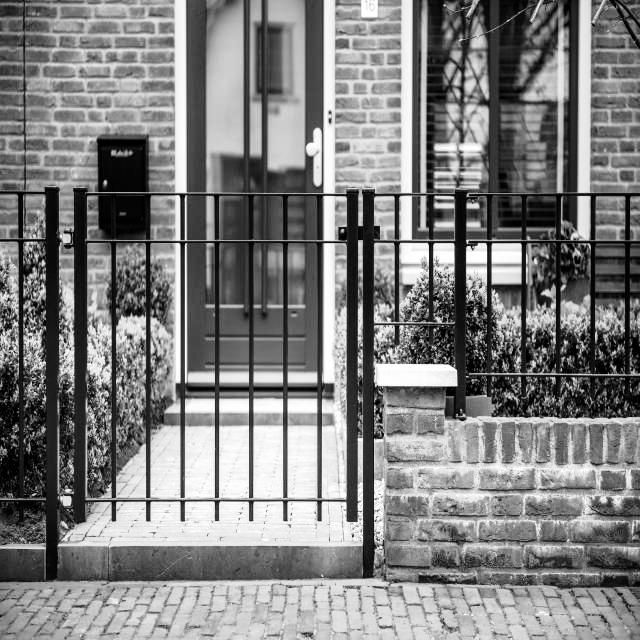fences: (8, 189, 372, 521), (415, 210, 640, 417)
